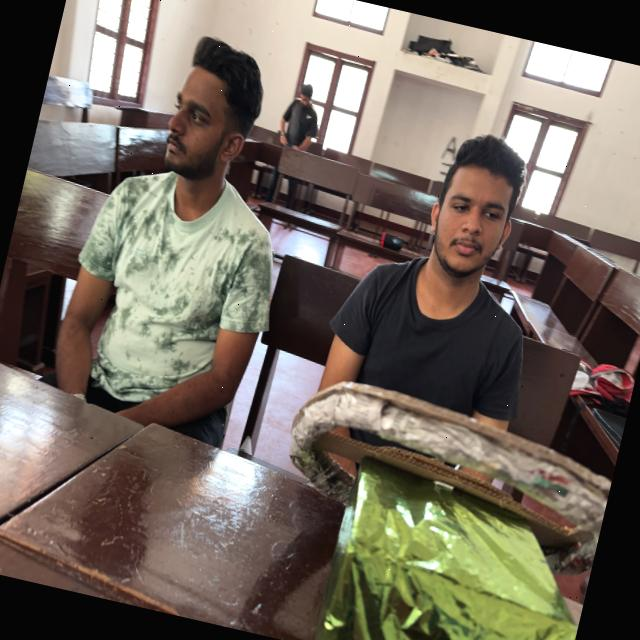Helmet: (38, 151, 297, 455), (286, 253, 540, 538)
